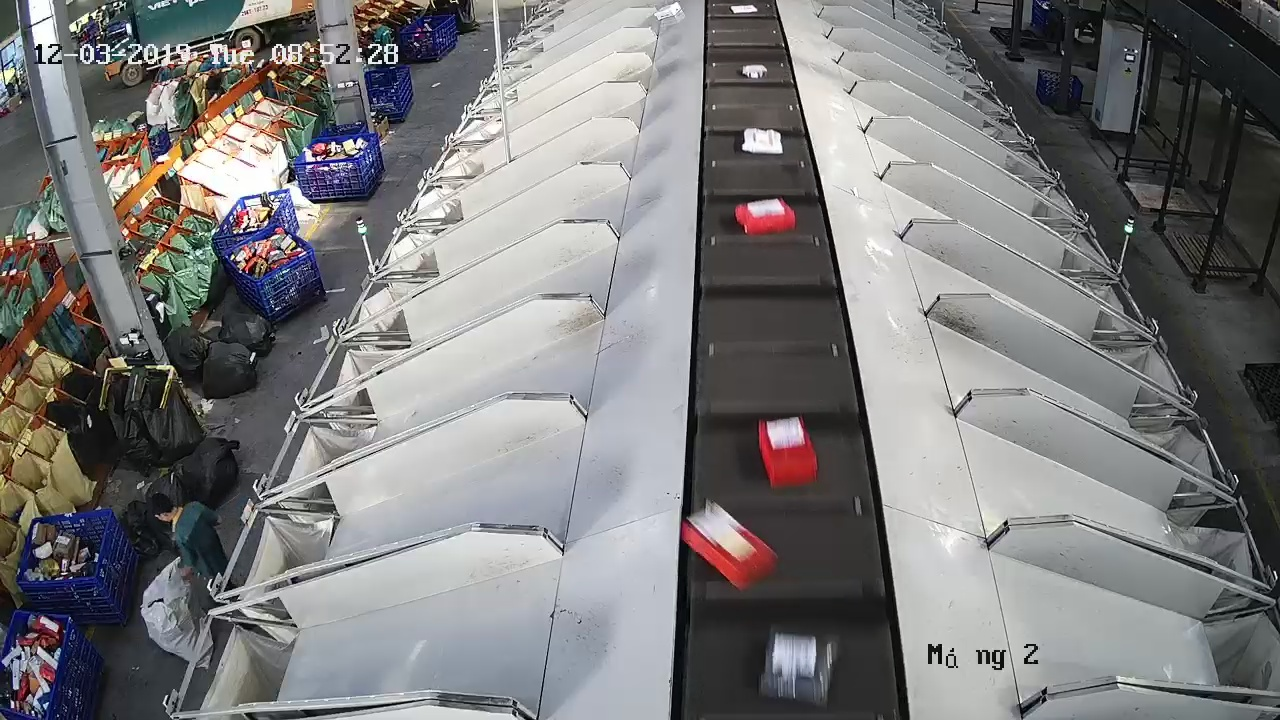parcel: (680, 499, 780, 593), (757, 622, 843, 711), (757, 415, 820, 491), (733, 194, 798, 237), (741, 126, 785, 156)
